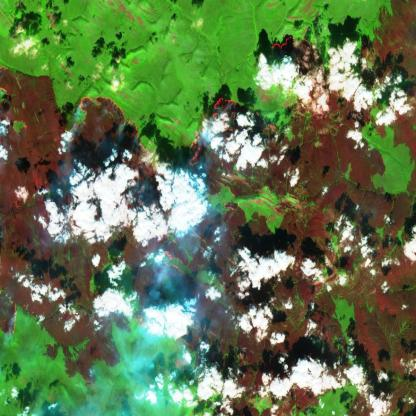fire: (63, 90, 161, 185), (187, 94, 261, 173), (154, 232, 188, 289), (269, 30, 315, 64), (0, 283, 25, 341), (0, 59, 14, 126), (217, 183, 242, 219)
